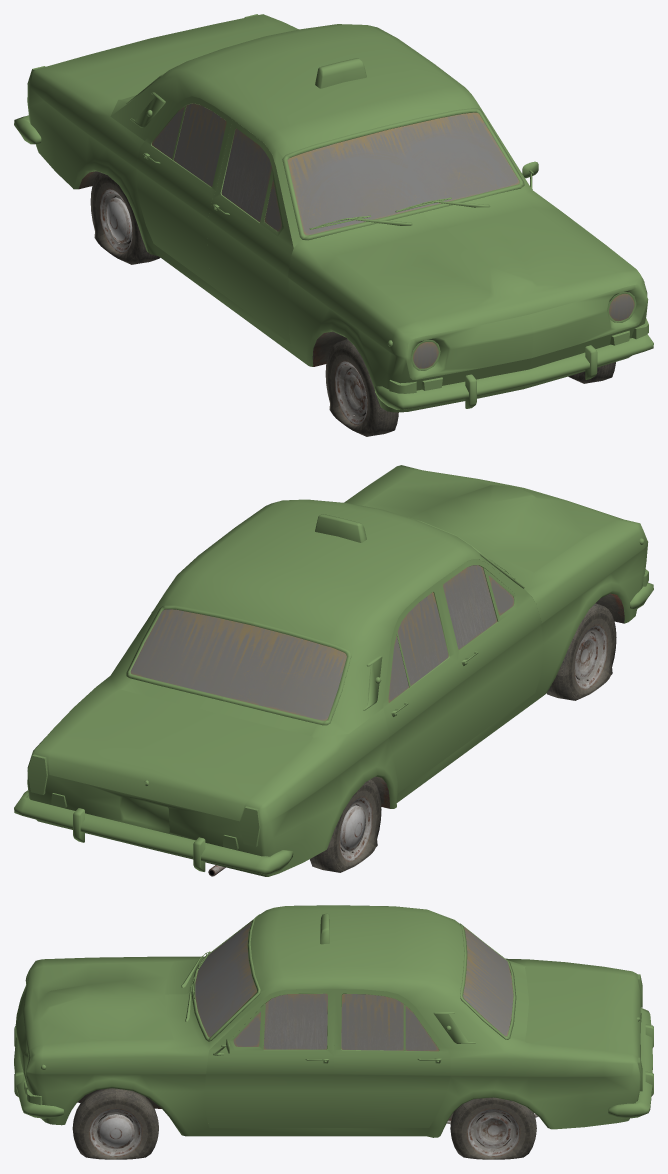
Rendered from taxi.FBX.
3 renders of one model, top to bottom at view 1: azimuth 30°, elevation 25°; view 2: azimuth 150°, elevation 25°; view 3: azimuth 270°, elevation 25°, orthographic. The views are drawn at different scales.
Visible parts, largest first — view 1: body, door_fr, door_rr, wheels, bumper_f, taxi_sign; view 2: body, door_fr, door_rr, wheels, bumper_r, taxi_sign; view 3: body, door_fl, door_rl, wheels, bumper_r, bumper_f.
Boxes of the visible parts, bbox=[...] form: body: bbox=[27, 14, 648, 412]; door_fr: bbox=[207, 119, 293, 343]; door_rr: bbox=[135, 96, 232, 286]; wheels: bbox=[90, 172, 615, 436]; bumper_f: bbox=[374, 334, 653, 409]; taxi_sign: bbox=[315, 58, 366, 88]; body: bbox=[27, 465, 648, 876]; door_fr: bbox=[437, 559, 543, 749]; door_rr: bbox=[383, 582, 462, 792]; wheels: bbox=[310, 603, 616, 872]; bumper_r: bbox=[14, 790, 293, 874]; taxi_sign: bbox=[315, 514, 366, 542]; body: bbox=[15, 905, 642, 1137]; door_fl: bbox=[204, 989, 334, 1127]; door_rl: bbox=[334, 989, 450, 1127]; wheels: bbox=[72, 1088, 536, 1159]; bumper_r: bbox=[608, 1008, 653, 1118]; bumper_f: bbox=[14, 1026, 63, 1118].
Size of the model in its own units: 72.65 by 61.11 by 186.
